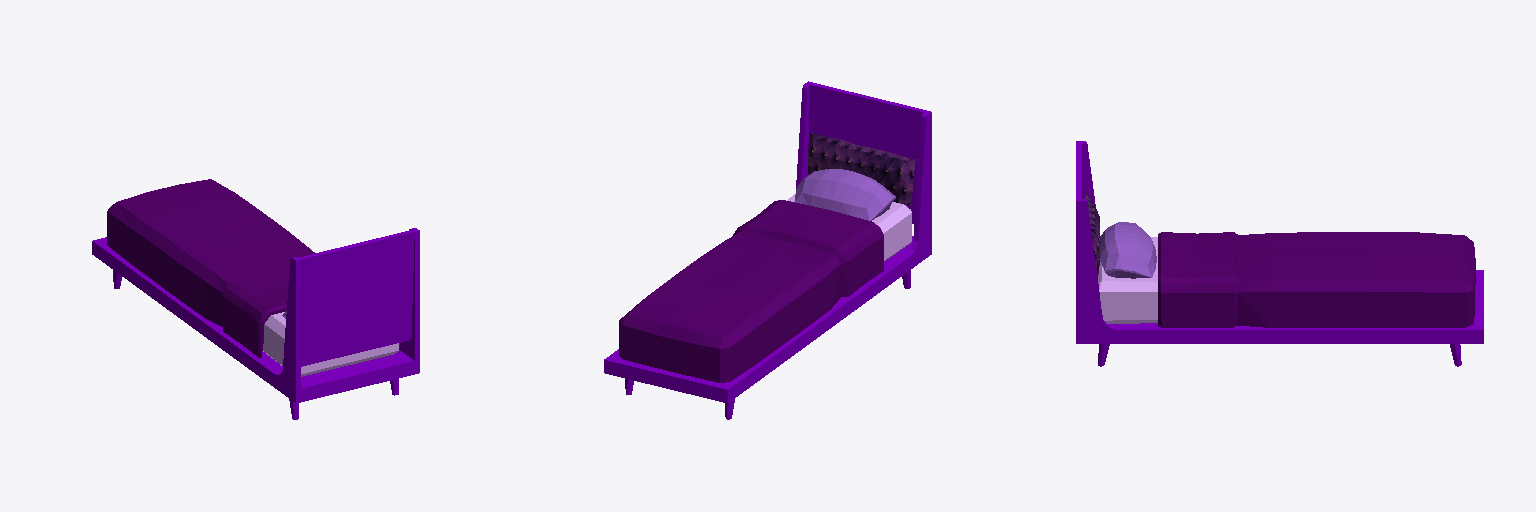
The picture shows the model from 3 angles: view 1: azimuth 30°, elevation 25°; view 2: azimuth 150°, elevation 25°; view 3: azimuth 270°, elevation 25°; orthographic projection.
Visible parts, largest first — view 1: Base_base, _bind_SB_blanket_EdgeStabilizer_, _bind_SB_blanket_Mid_, _bind_SB_blanket_Bottom_, _bind_SB_blanket_MakeBedMid_R_, Colchon_Colchon, _bind_SB_blanket_MakeBedFront_R_, _bind_SB_blanket_Top_; view 2: Base_base, _bind_SB_blanket_EdgeStabilizer_, _bind_SB_blanket_Top_, Almohada2_cabecera, Sabana_Sabanas, _bind_SB_blanket_Mid_, _bind_SB_blanket_Bottom_, _bind_SB_blanket_MakeBedMid_R_, _bind_SB_Pillow_trans_, _bind_SB_Pillow_squish_, Colchon_Colchon, _bind_SB_blanket_MakeBedFront_R_ (+1 smaller); view 3: Base_base, _bind_SB_blanket_EdgeStabilizer_, _bind_SB_blanket_MakeBedMid_L_, _bind_SB_blanket_Top_, _bind_SB_blanket_Mid_, _bind_SB_blanket_Bottom_, Colchon_Colchon, _bind_SB_blanket_MakeBedFront_L_, Sabana_Sabanas, _bind_SB_Pillow_trans_, _bind_SB_Pillow_squish_, Almohada2_cabecera.
Part boxes in pixels (x1,y1,x2,y2): Base_base: (92, 228, 419, 419); _bind_SB_blanket_EdgeStabilizer_: (107, 179, 285, 298); _bind_SB_blanket_Mid_: (188, 223, 309, 279); _bind_SB_blanket_Bottom_: (138, 185, 260, 252); _bind_SB_blanket_MakeBedMid_R_: (179, 254, 250, 331); Colchon_Colchon: (263, 312, 398, 376); _bind_SB_blanket_MakeBedFront_R_: (224, 297, 285, 357); _bind_SB_blanket_Top_: (228, 267, 289, 307); Base_base: (604, 81, 931, 419); _bind_SB_blanket_EdgeStabilizer_: (629, 258, 805, 382); _bind_SB_blanket_Top_: (738, 200, 871, 253); Almohada2_cabecera: (808, 133, 915, 204); Sabana_Sabanas: (619, 295, 697, 374); _bind_SB_blanket_Mid_: (724, 236, 820, 286); _bind_SB_blanket_Bottom_: (651, 266, 794, 328); _bind_SB_blanket_MakeBedMid_R_: (798, 237, 864, 327); _bind_SB_Pillow_trans_: (795, 169, 895, 220); _bind_SB_Pillow_squish_: (811, 169, 869, 215); Colchon_Colchon: (787, 193, 911, 260); _bind_SB_blanket_MakeBedFront_R_: (850, 222, 883, 294); Base_base: (1076, 141, 1483, 366); _bind_SB_blanket_EdgeStabilizer_: (1319, 232, 1475, 327); _bind_SB_blanket_MakeBedMid_L_: (1198, 263, 1318, 327); _bind_SB_blanket_Top_: (1158, 232, 1237, 283); _bind_SB_blanket_Mid_: (1238, 232, 1365, 279); _bind_SB_blanket_Bottom_: (1319, 232, 1462, 279); Colchon_Colchon: (1098, 237, 1157, 323); _bind_SB_blanket_MakeBedFront_L_: (1158, 271, 1230, 327); Sabana_Sabanas: (1369, 250, 1475, 326); _bind_SB_Pillow_trans_: (1105, 222, 1156, 278); _bind_SB_Pillow_squish_: (1105, 224, 1156, 268); Almohada2_cabecera: (1085, 193, 1099, 276).
Bounding box in the file's own units: 0.85 × 1.11 × 2.43.
5 materials, 5 textured.